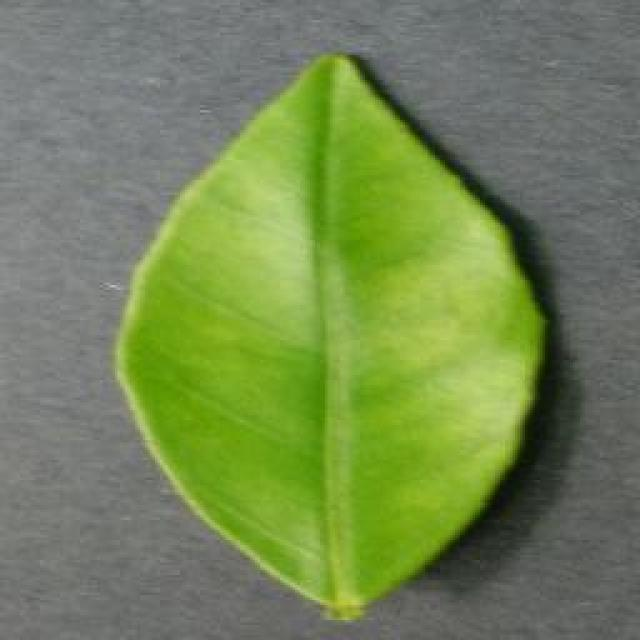Orange_Haunglongbing_Citrus_greening: (178, 130, 502, 566)
